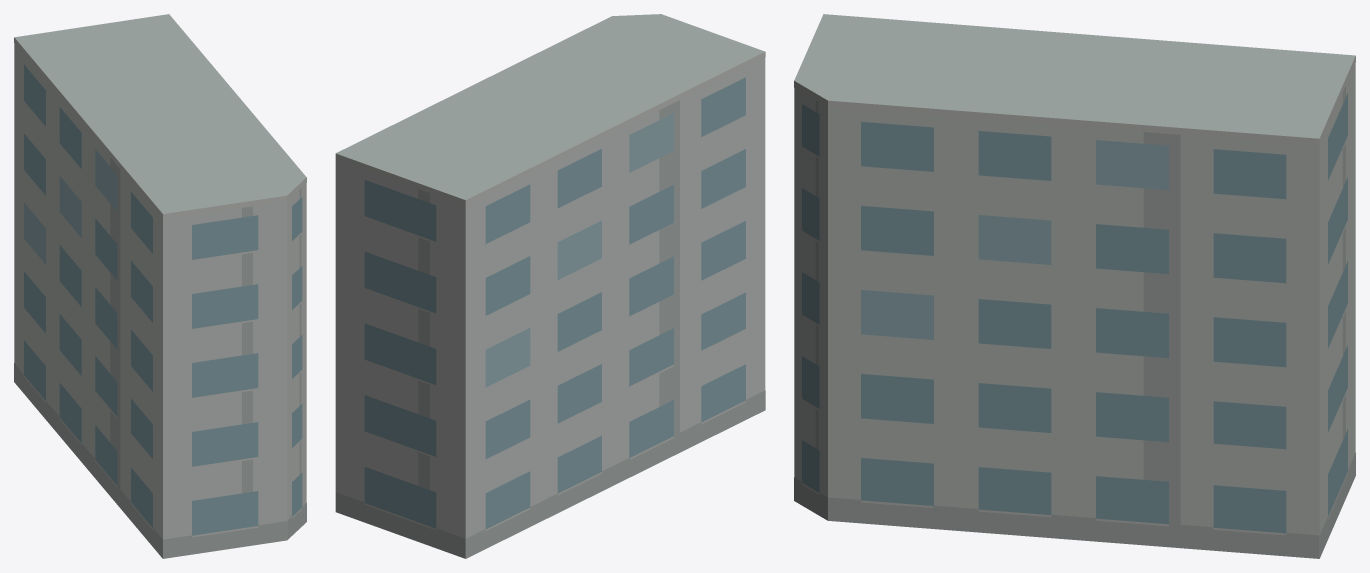
Rendered from survey-upis-32609668.glb.
The picture shows the model from 3 angles, left to right: view 1: azimuth 30°, elevation 25°; view 2: azimuth 150°, elevation 25°; view 3: azimuth 270°, elevation 25°; orthographic projection. The views are drawn at different scales.
Parts seen in each view (by area): view 1: survey-upis-32609668.tmp; view 2: survey-upis-32609668.tmp; view 3: survey-upis-32609668.tmp.
Boxes of the visible parts, <box> form: survey-upis-32609668.tmp: <box>14,14,306,558</box>; survey-upis-32609668.tmp: <box>335,14,765,558</box>; survey-upis-32609668.tmp: <box>794,14,1355,558</box>.
Bounding box in the file's own units: 9.46 × 14.85 × 18.
